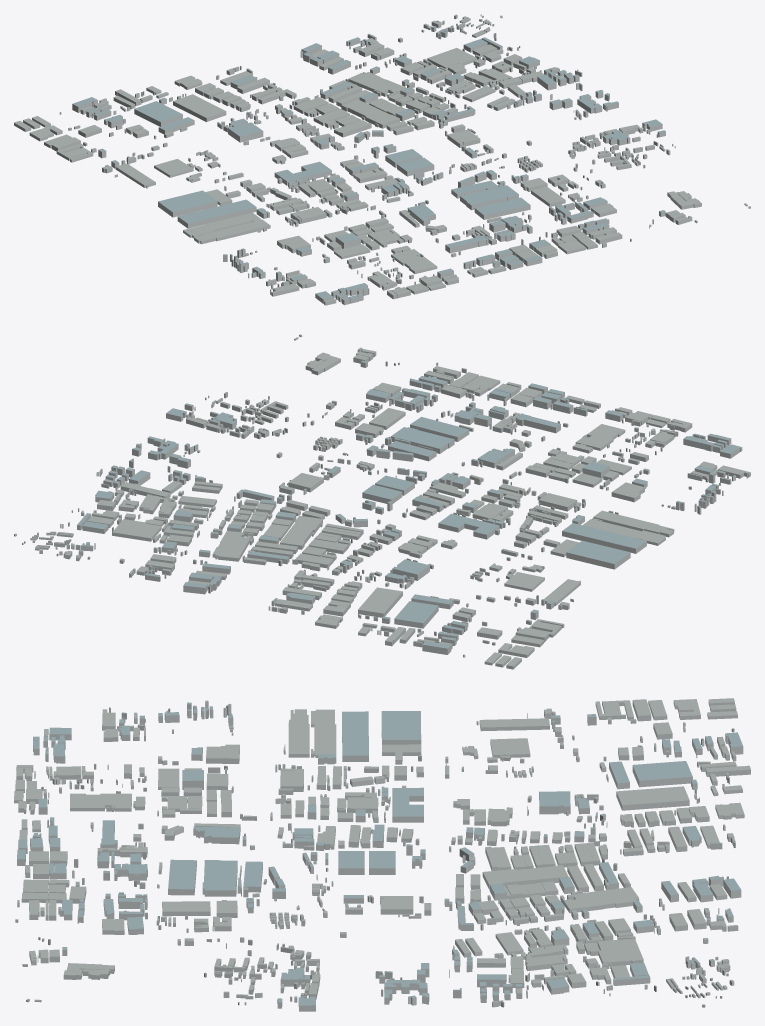
File: far.glb
The picture shows the model from 3 angles, top to bottom: view 1: azimuth 30°, elevation 25°; view 2: azimuth 150°, elevation 25°; view 3: azimuth 270°, elevation 25°; orthographic projection. The views are drawn at different scales.
Bounding box in the file's own units: 2134 × 45.44 × 2145.
